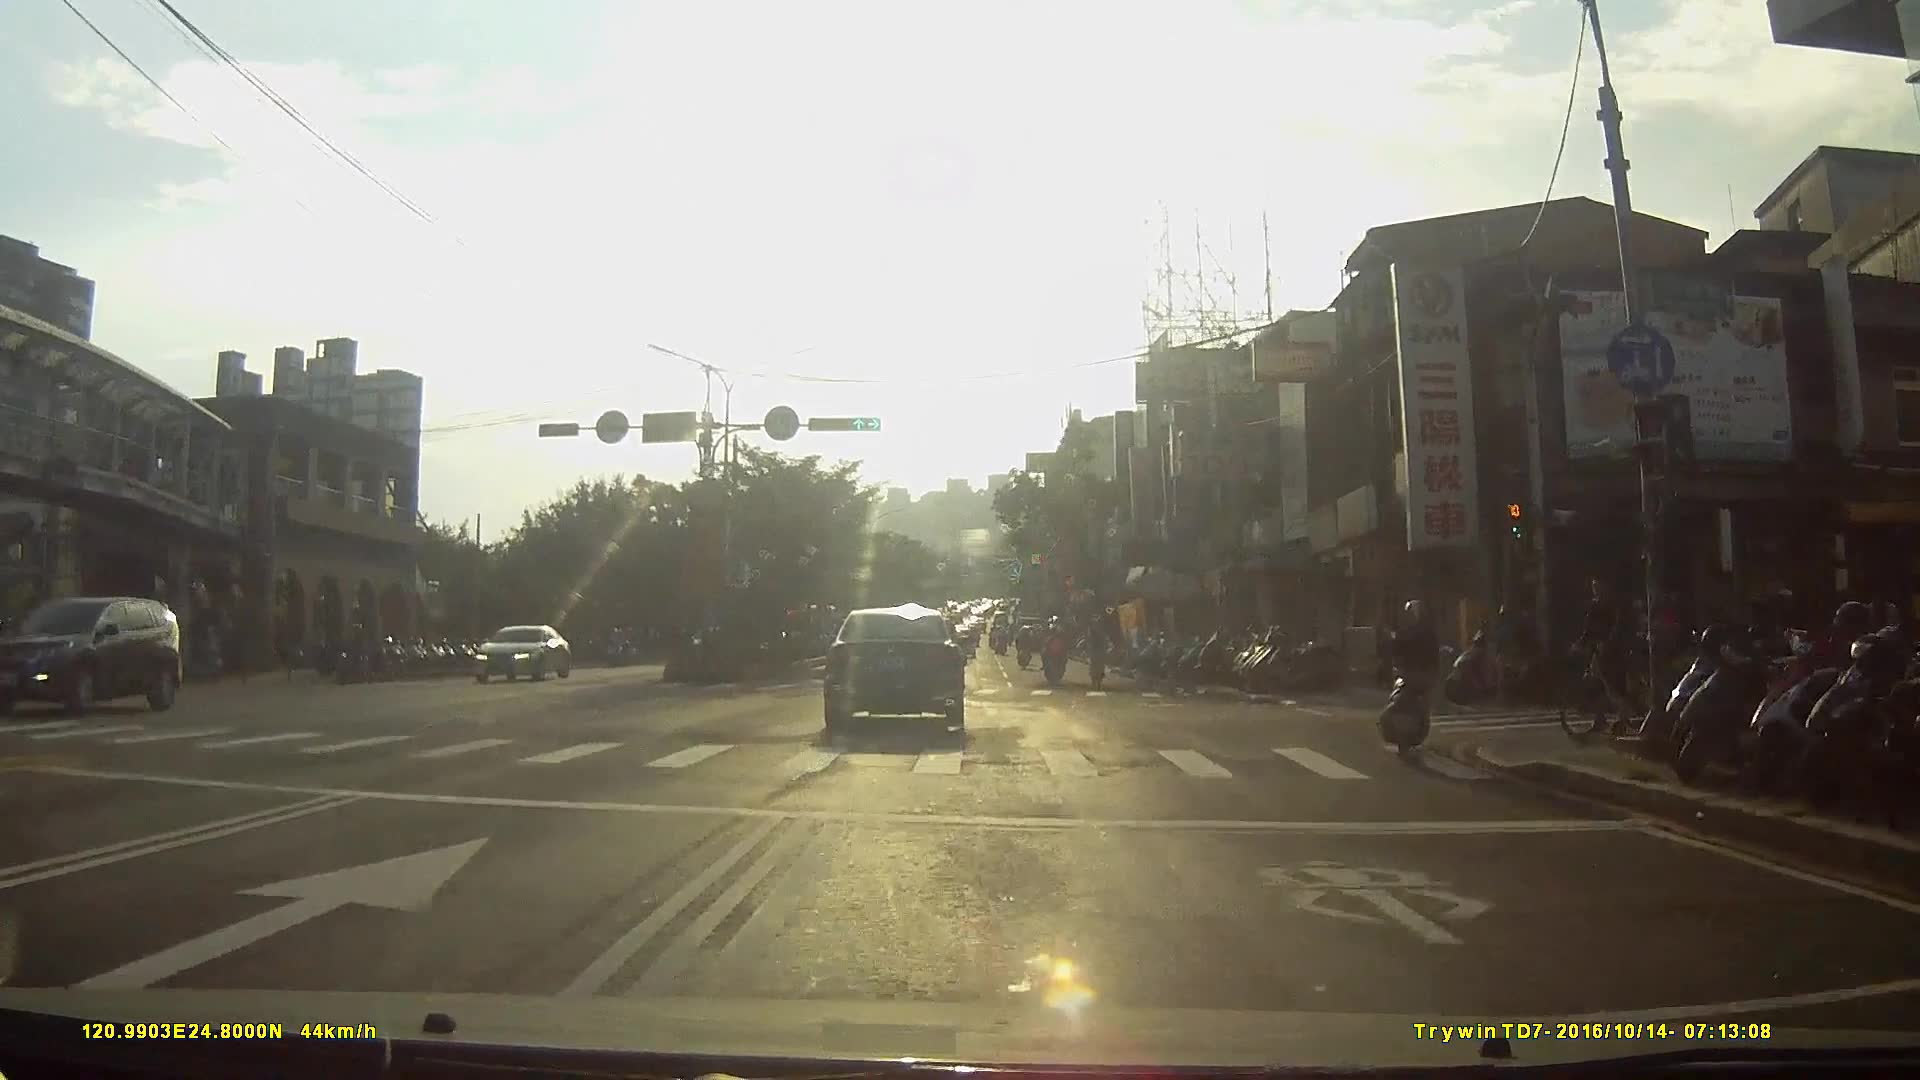pedestrian: (1863, 577, 1900, 683)
rider: (1553, 567, 1682, 744), (1377, 598, 1446, 761), (335, 624, 371, 684), (1040, 624, 1073, 687), (1014, 624, 1036, 672)
vehicle: (21, 588, 194, 722), (823, 609, 983, 751), (471, 624, 574, 687)
